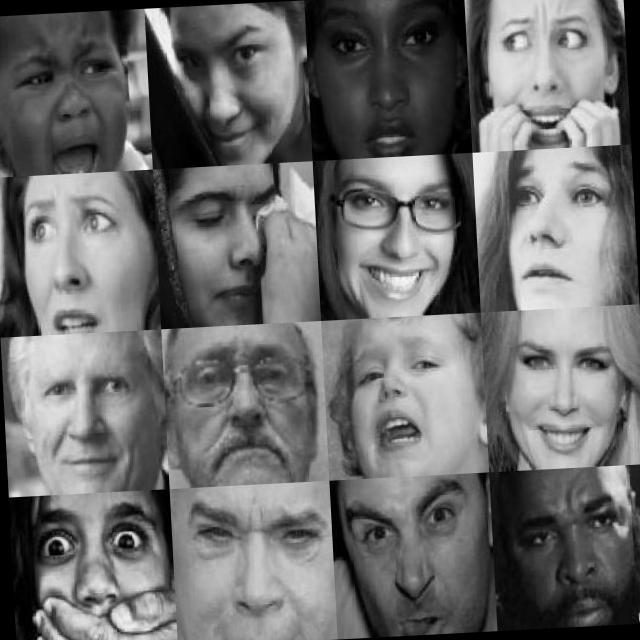angry: (176, 336, 314, 484), (0, 31, 135, 177), (346, 328, 467, 472)
fear: (181, 494, 330, 640), (24, 495, 166, 640), (482, 0, 621, 147), (15, 180, 130, 336)
happy: (161, 8, 304, 161), (326, 172, 472, 318), (348, 492, 482, 639), (22, 342, 153, 492), (496, 322, 628, 469)
neutral: (311, 0, 457, 152), (503, 478, 640, 630)
sad: (486, 157, 638, 310), (169, 170, 294, 329)
